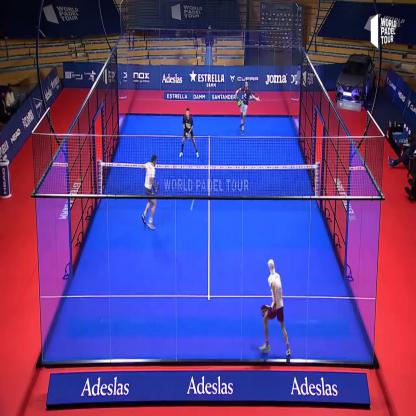ball: (189, 200, 198, 214)
